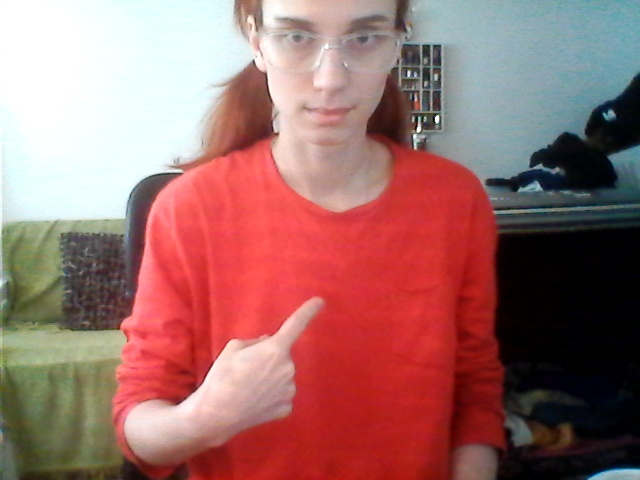ja: (197, 284, 348, 439)
